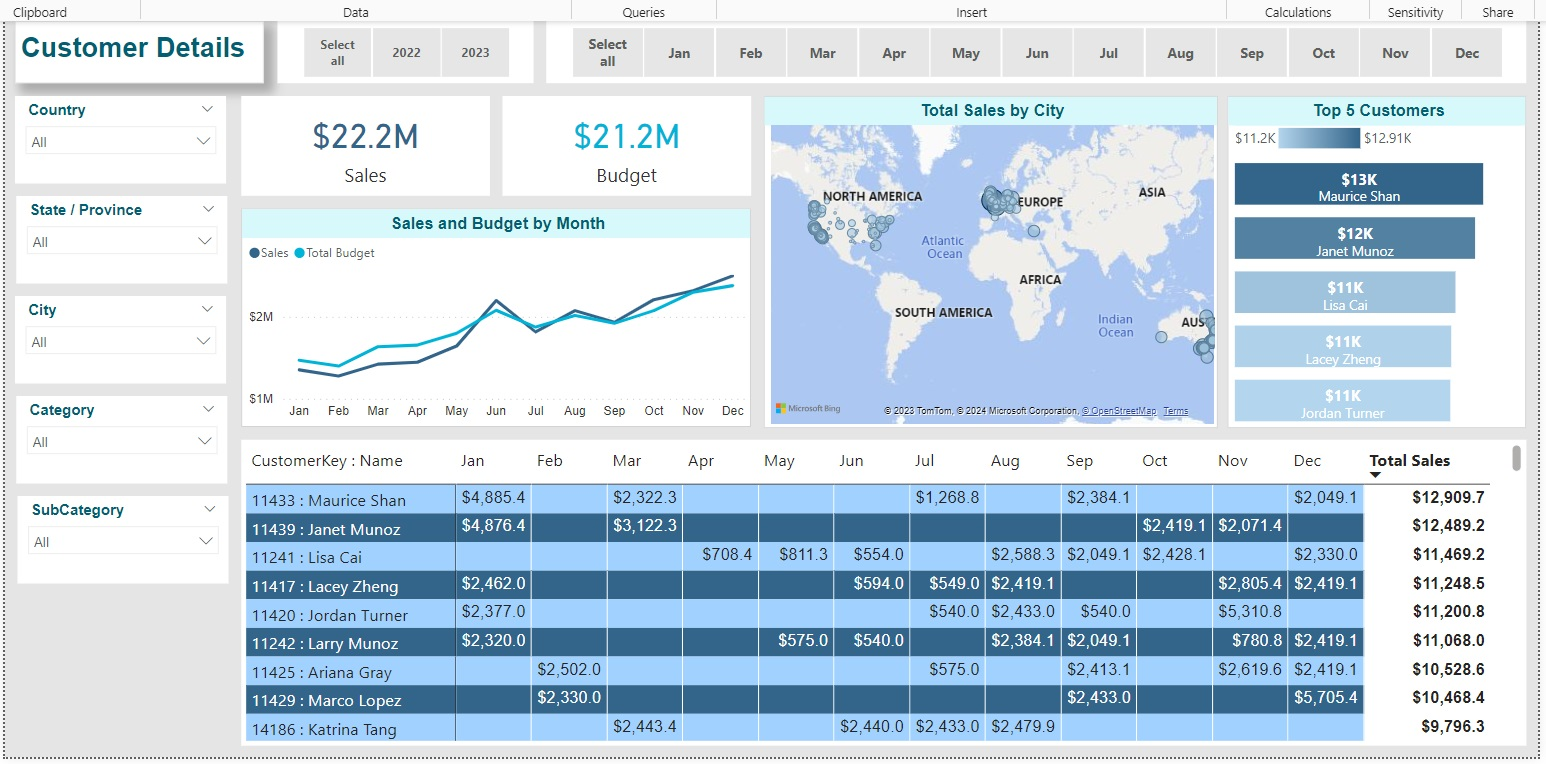

What the dashboard file says about the page in this screenshot:
{"tool":"powerbi","page":{"name":"Customer Details","canvas":[1500,720],"ordinal":1},"visuals":[{"type":"textbox","box":[9.8,0,243.3,61.1],"z":0},{"type":"slicer","fields":{"Values":["DimCustomers.City"]},"box":[9.8,268.9,206.6,85.6],"z":1000},{"type":"slicer","fields":{"Values":["DimCustomers.Country"]},"box":[9.8,73.3,206.6,85.6],"z":2000},{"type":"slicer","fields":{"Values":["DimCustomers.State / Province"]},"box":[11,171.1,206.6,85.6],"z":3000},{"type":"slicer","fields":{"Values":["DimProducts.Category"]},"box":[11,366.7,206.6,85.6],"z":4000},{"type":"slicer","fields":{"Values":["DimProducts.SubCategory"]},"box":[12.2,464.5,206.6,85.6],"z":5000},{"type":"slicer","fields":{"Values":["DimCalendar.Year"]},"box":[266.5,0,250.6,61.1],"z":6000},{"type":"slicer","fields":{"Values":["DimCalendar.MonthShort"]},"box":[529.3,0,958.4,61.1],"z":7000},{"type":"lineChart","title":"Sales and Budget by Month","fields":{"Category":["DimCalendar.MonthShort"],"Y":["Key Measures.Total Sales"],"Y2":["Key Measures.Total Budget"]},"box":[231,183.4,498.7,213.9],"z":8000},{"type":"barChart","title":"Top 5 Customers","fields":{"Y":["Key Measures.Total Sales"],"Category":["DimCustomers.Key_Name"]},"box":[1195.5,73.3,292.2,325.2],"z":9000},{"type":"map","fields":{"Category":["DimCustomers.City"],"Size":["Key Measures.Total Sales"]},"box":[742,73.3,443.7,325.2],"z":10000},{"type":"card","fields":{"Values":["Key Measures.Total Budget"]},"box":[486.5,73.3,243.3,97.8],"z":11000},{"type":"card","fields":{"Values":["Key Measures.Total Sales"]},"box":[231,73.3,243.3,97.8],"z":12000},{"type":"pivotTable","fields":{"Columns":["DimCalendar.MonthShort"],"Values":["Key Measures.Total Sales"],"Rows":["DimCustomers.Key_Name"]},"box":[231,409.5,1256.6,299.5],"z":13000}]}

Visuals, with their boxes on the page's 1500x720 design canvas (x1, y1, x2, y2). These are canvas units, not pixel positions in the 1546x764 screenshot, which may show the page scaled, cropped or inside an application window:
textbox: region(10, 0, 253, 61)
slicer - DimCustomers.City: region(10, 269, 216, 354)
slicer - DimCustomers.Country: region(10, 73, 216, 159)
slicer - DimCustomers.State / Province: region(11, 171, 218, 257)
slicer - DimProducts.Category: region(11, 367, 218, 452)
slicer - DimProducts.SubCategory: region(12, 464, 219, 550)
slicer - DimCalendar.Year: region(266, 0, 517, 61)
slicer - DimCalendar.MonthShort: region(529, 0, 1488, 61)
"Sales and Budget by Month" lineChart: region(231, 183, 730, 397)
"Top 5 Customers" barChart: region(1196, 73, 1488, 398)
map - DimCustomers.City x Key Measures.Total Sales: region(742, 73, 1186, 398)
card - Key Measures.Total Budget: region(486, 73, 730, 171)
card - Key Measures.Total Sales: region(231, 73, 474, 171)
pivotTable - DimCalendar.MonthShort x Key Measures.Total Sales: region(231, 410, 1488, 709)
